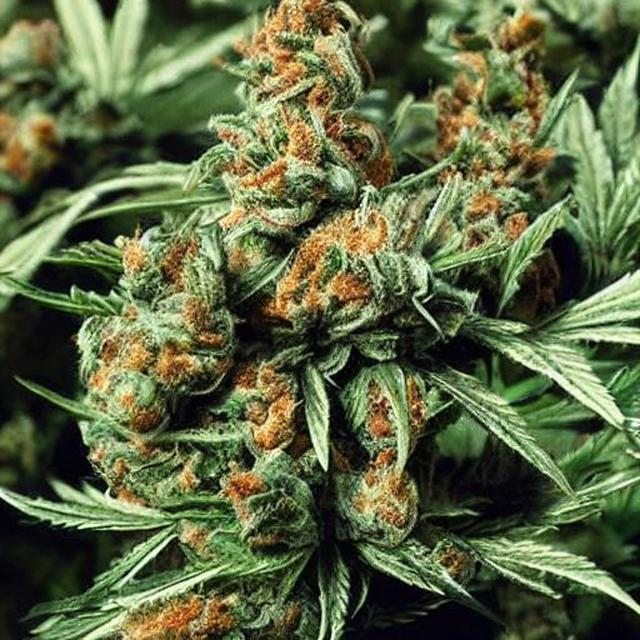Marijuana Plant: (0, 38, 452, 639)
